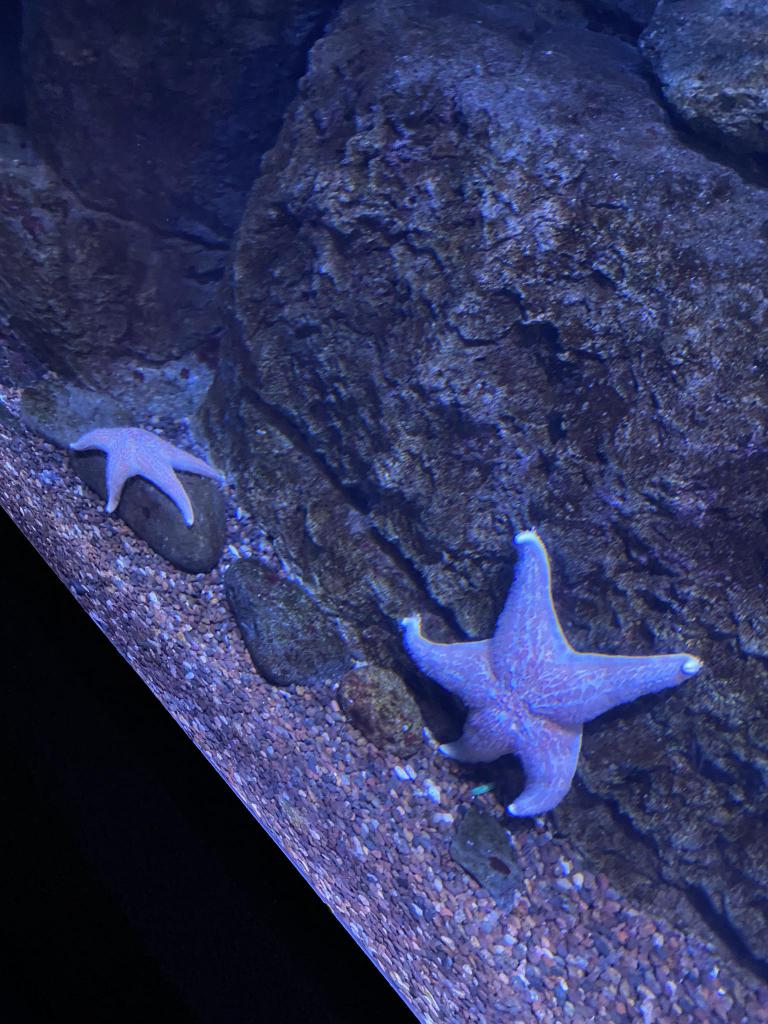starfish: (400, 530, 700, 816), (69, 424, 223, 528)
